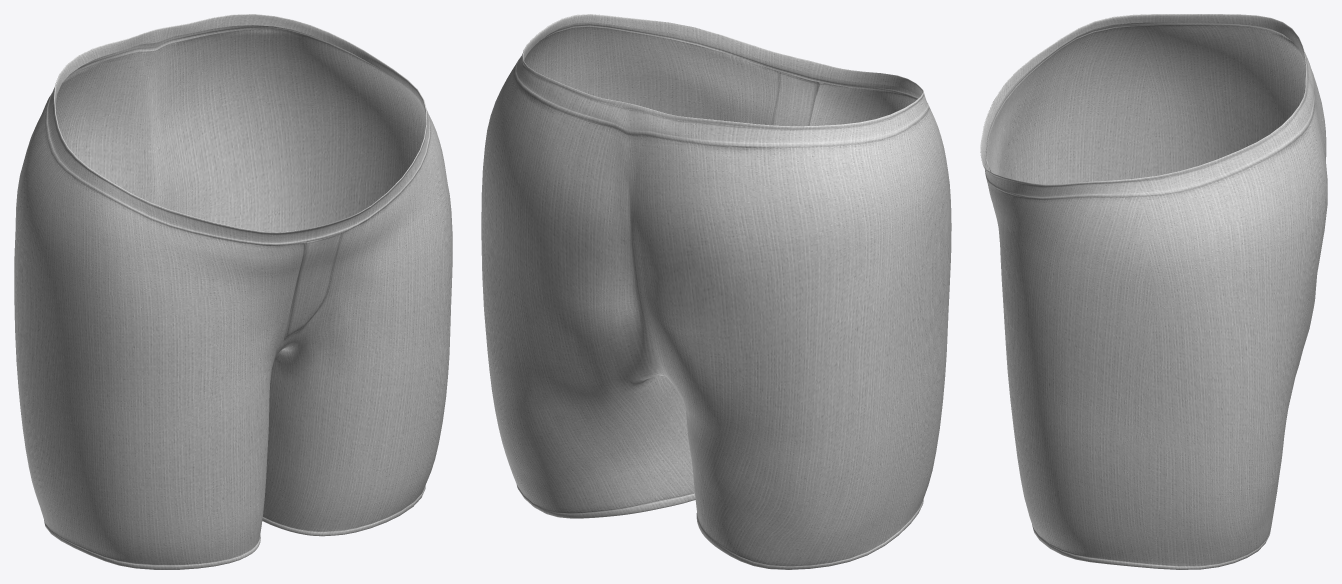
The model's file is Shorts.glb.
The picture shows the model from 3 angles, left to right: view 1: azimuth 30°, elevation 25°; view 2: azimuth 150°, elevation 25°; view 3: azimuth 270°, elevation 25°; orthographic projection. The views are drawn at different scales.
Visible parts, largest first — view 1: Boxers_for_Genesis.005; view 2: Boxers_for_Genesis.005; view 3: Boxers_for_Genesis.005.
Part boxes in pixels (box(x1,y1,x2,y2)): Boxers_for_Genesis.005: box(14, 14, 452, 569); Boxers_for_Genesis.005: box(481, 14, 951, 569); Boxers_for_Genesis.005: box(980, 14, 1327, 569).
Size of the model in its own units: 9.83 by 10.28 by 7.63.
Materials: 4 (4 with a texture image).
